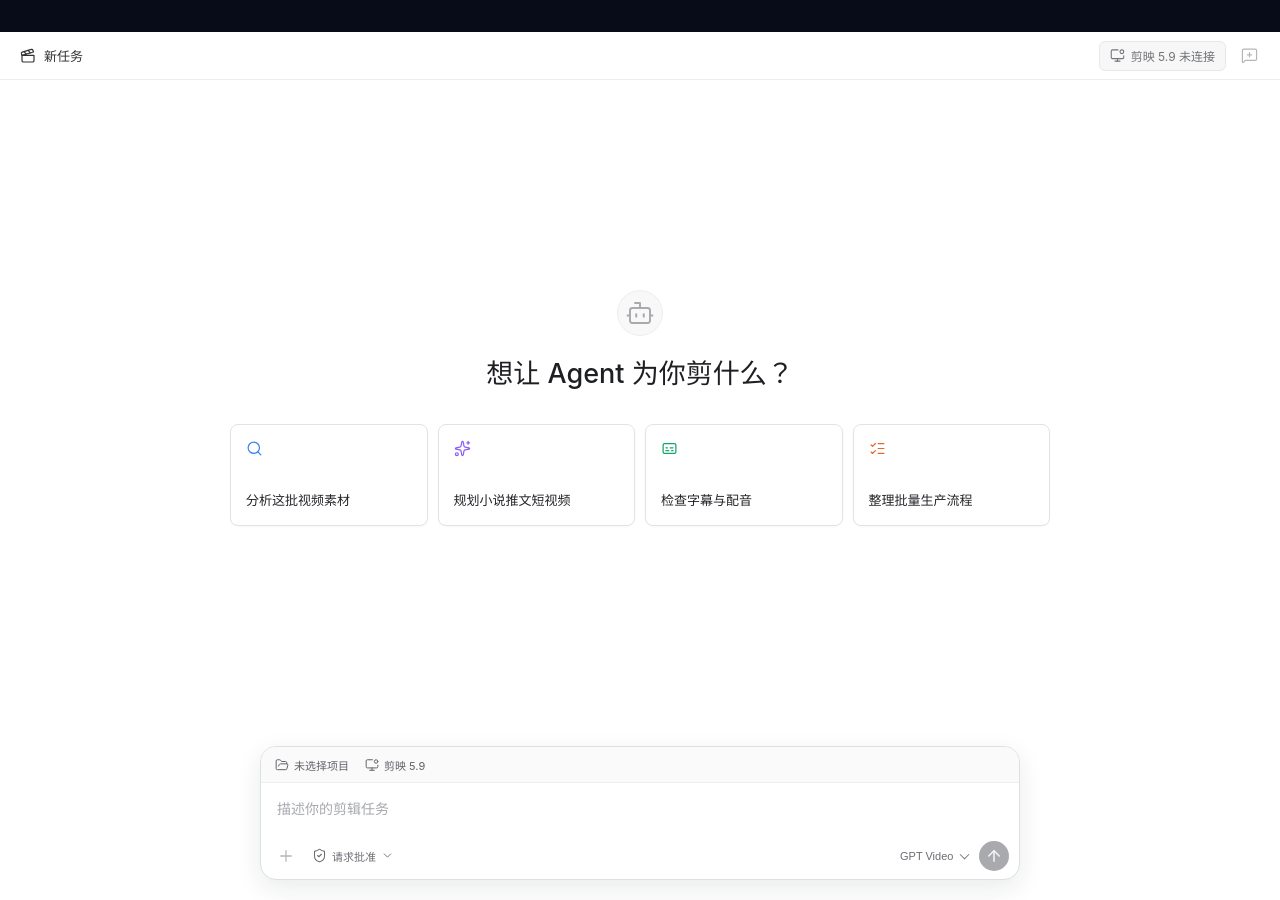
Test: AgentWorkspace › rolls back a failed turn before the next request
Type "失败的请求" into the text box named "描述剪辑任务".
click(640, 810); type("失败的请求")  # box [261,783,1019,837]
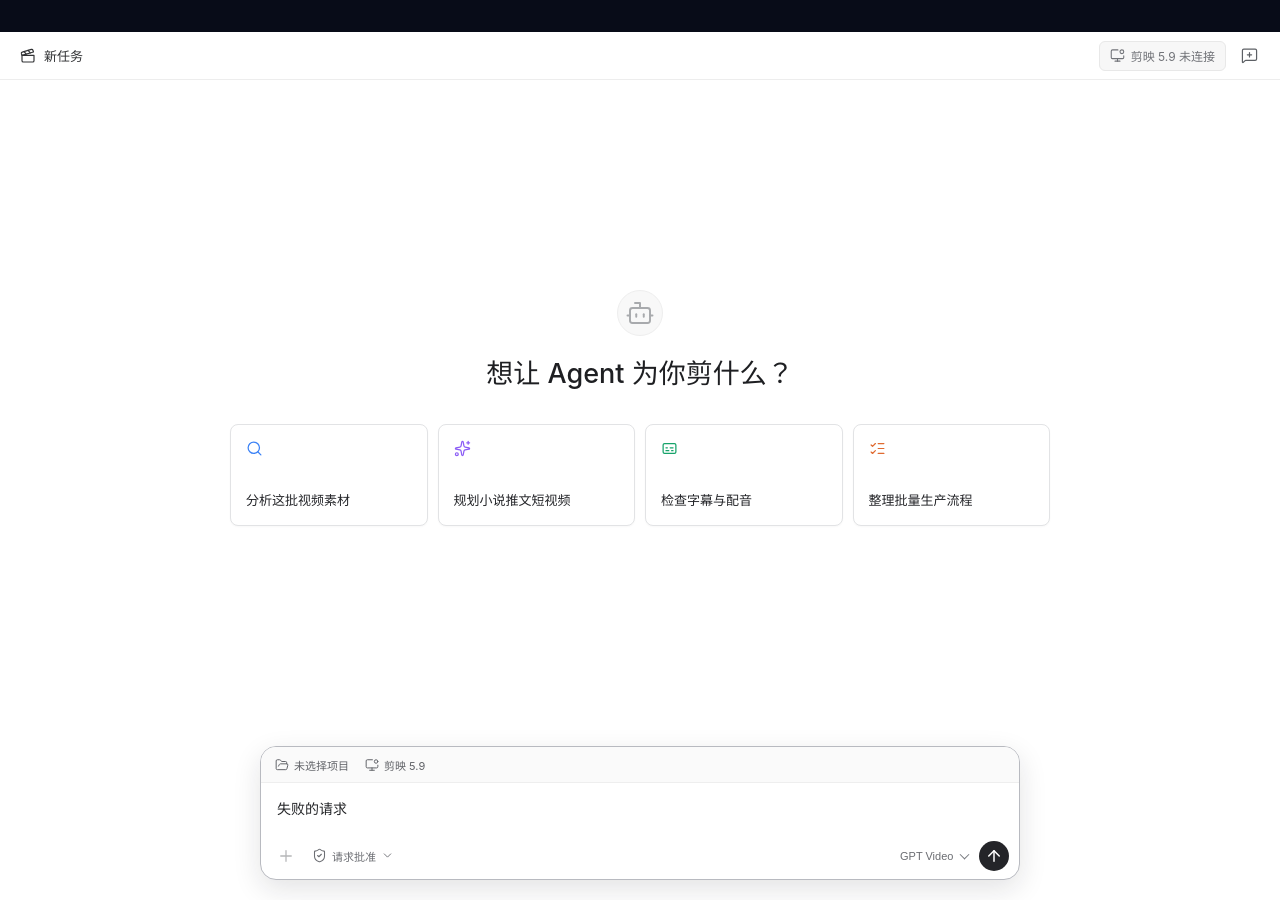
Press Enter
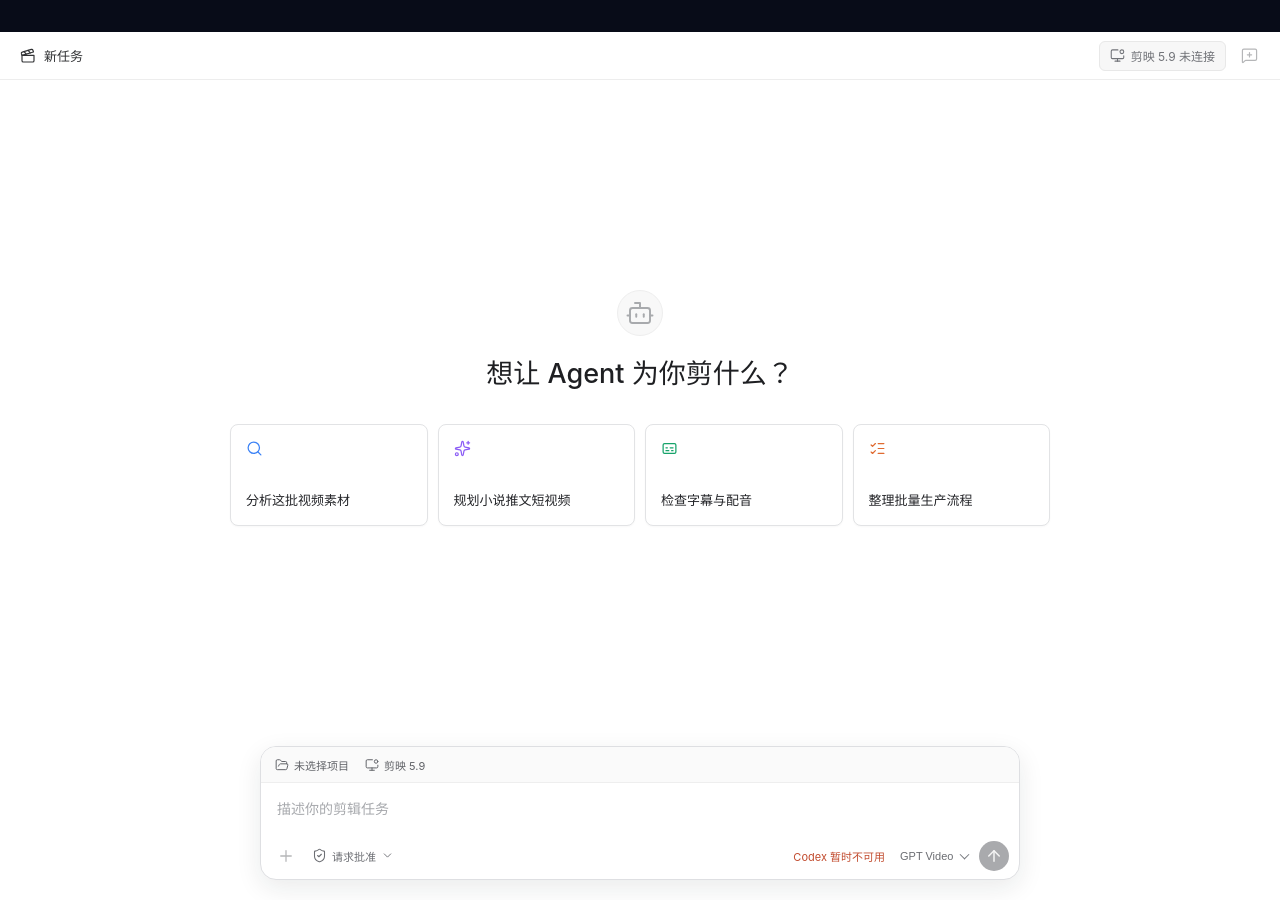
Check: the text "失败的请求" is not shown
Check: the message reads "Codex 暂时不可用", box [793,850,885,864]
Type "重新发送" into the text box named "描述剪辑任务".
click(640, 810); type("重新发送")  # box [261,783,1019,837]
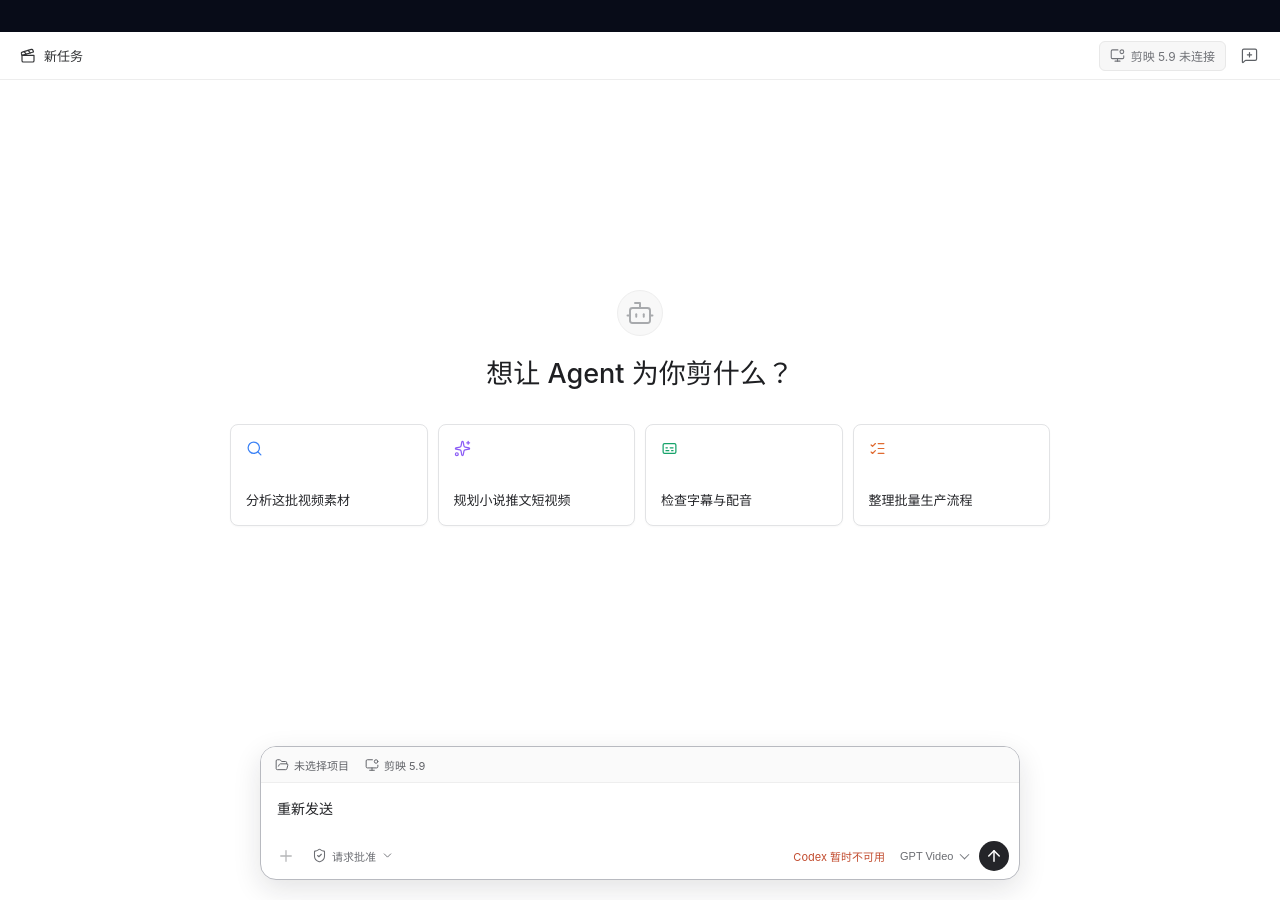
Press Enter
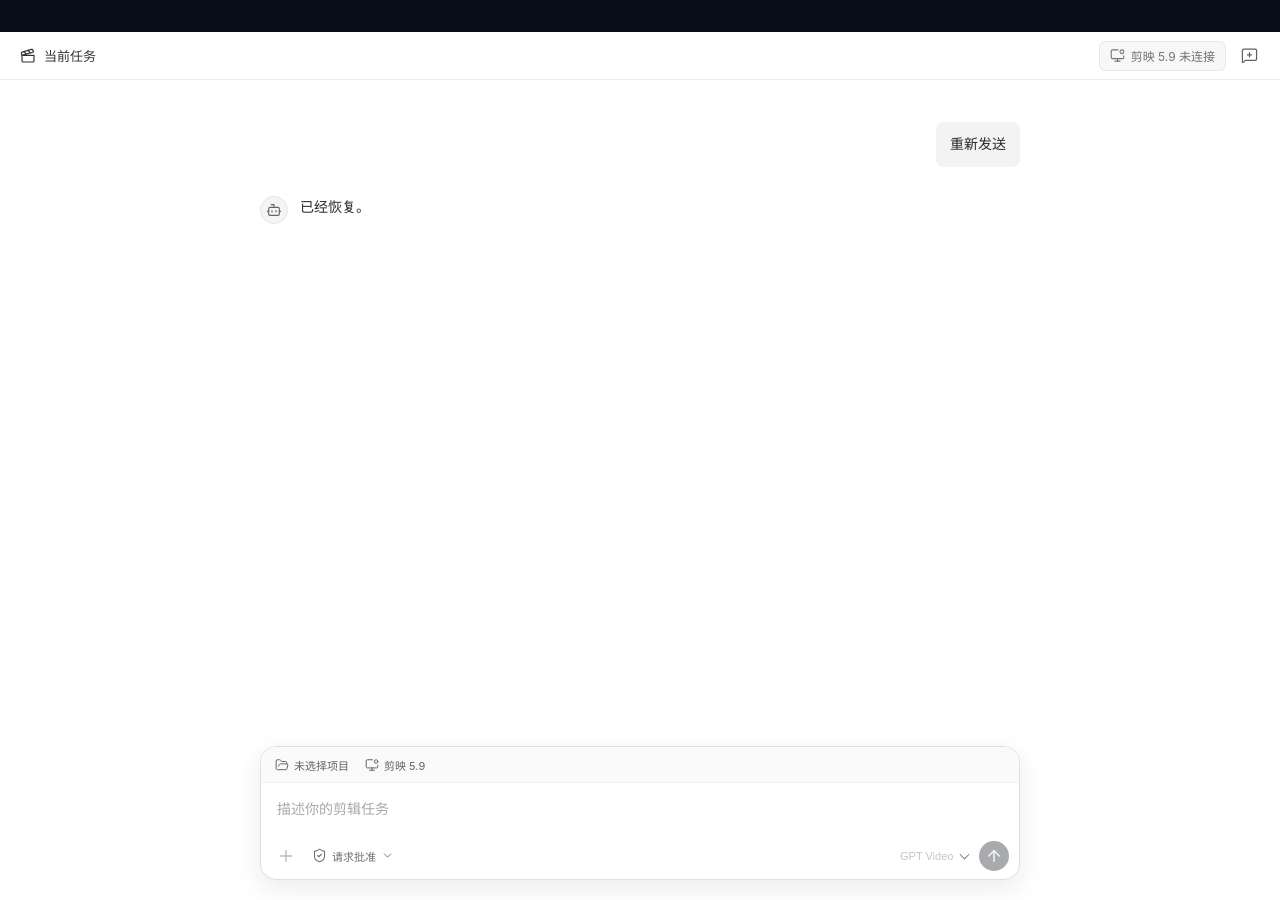
Check: the text "已经恢复。" is shown, box [300,194,370,219]
